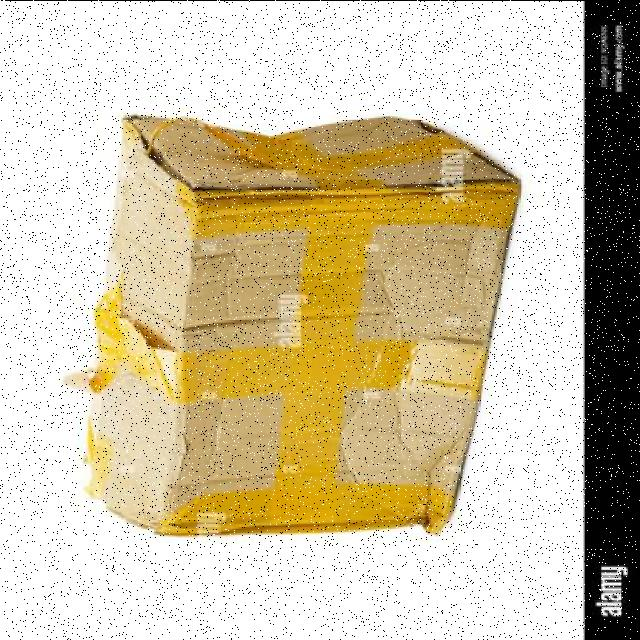defect: (68, 112, 526, 540)
